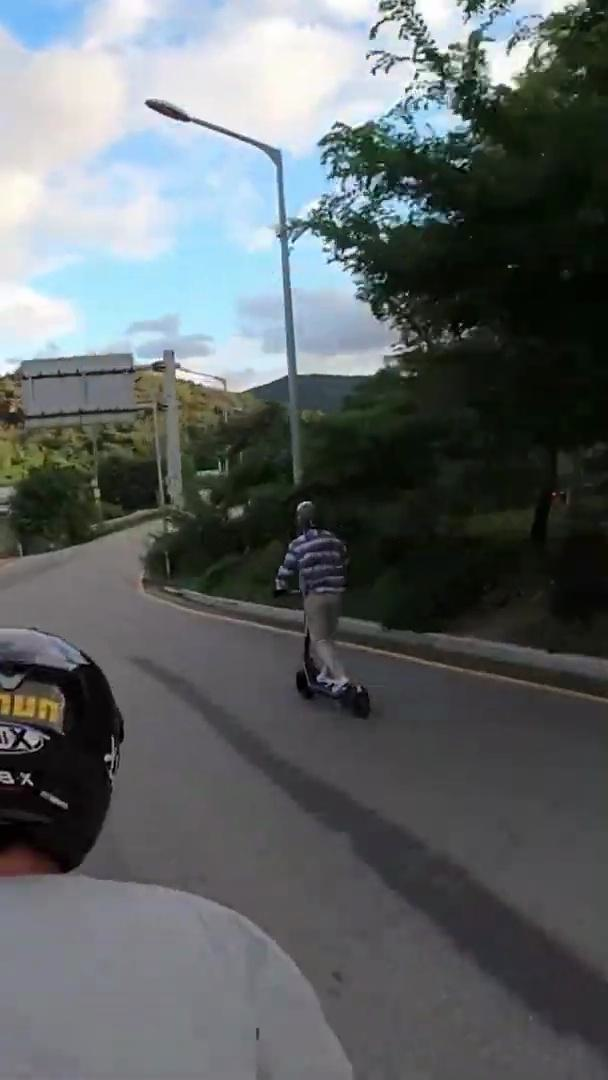helmet: (267, 497, 376, 724)
